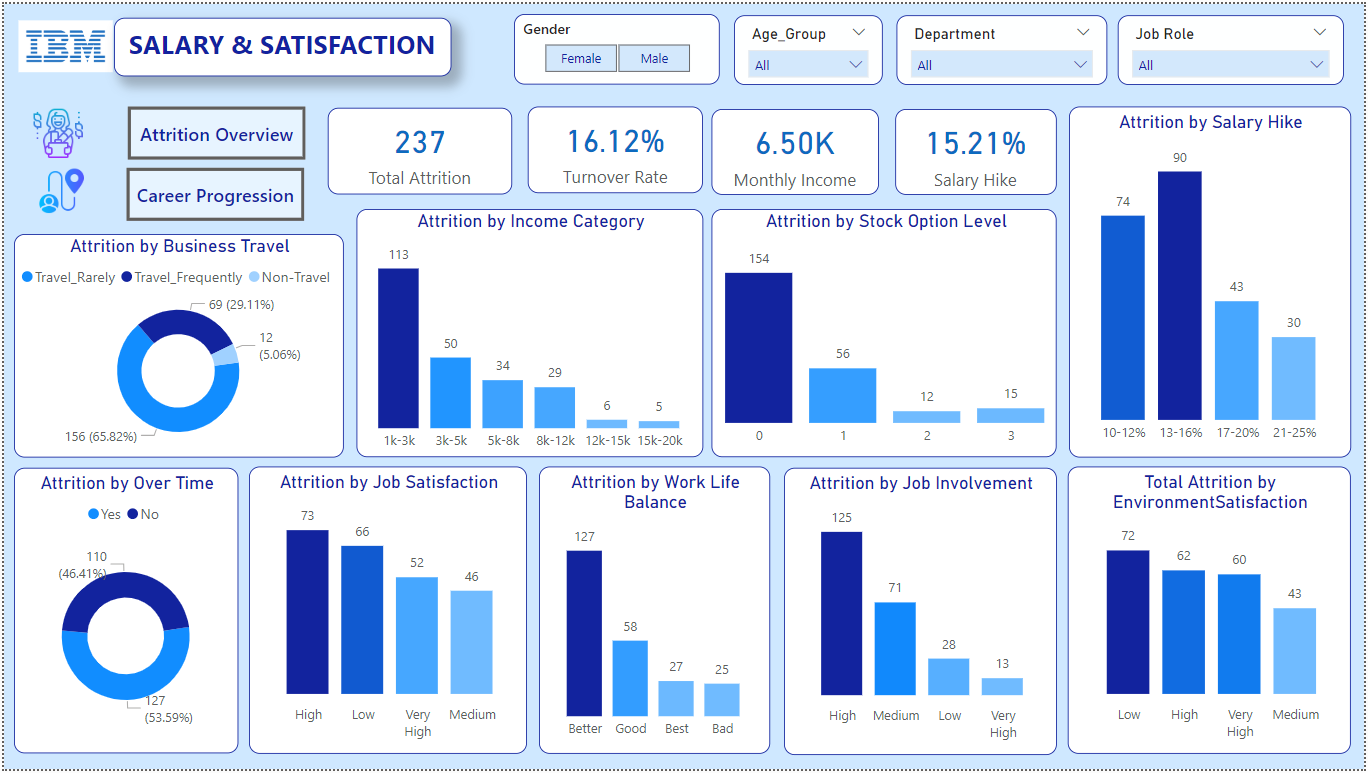

Layout of this report page (visuals, bound fields, positions):
{"tool":"powerbi","page":{"name":"Salary & Satisfaction","canvas":[1280,720],"ordinal":1},"visuals":[{"type":"clusteredColumnChart","title":"Attrition by Job Satisfaction","fields":{"Category":["ratings.JobSatisfaction"],"Y":["Measures (2).Total Attrition"]},"box":[231.1,435.3,261.7,270.2],"z":0},{"type":"clusteredColumnChart","fields":{"Category":["ratings.EnvironmentSatisfaction"],"Y":["Measures (2).Total Attrition"]},"box":[1001.5,435.3,266.6,270.2],"z":1000},{"type":"clusteredColumnChart","title":"Attrition by Work Life Balance","fields":{"Category":["ratings.WorkLifeBalance"],"Y":["Measures (2).Total Attrition"]},"box":[503.8,435.3,217.7,270.2],"z":2000},{"type":"clusteredColumnChart","title":"Attrition by Job Involvement","fields":{"Category":["job.JobInvolvement"],"Y":["Measures (2).Total Attrition"]},"box":[733.7,436.6,256.8,270.2],"z":3000},{"type":"clusteredColumnChart","title":"Attrition by Stock Option Level","fields":{"Category":["compensation.StockOptionLevel"],"Y":["Measures (2).Total Attrition"]},"box":[666.3,193,324.4,233.7],"z":4000},{"type":"clusteredColumnChart","title":"Attrition by Salary Hike","fields":{"Category":["employee_fact.Salary_hike_percentage"],"Y":["Measures (2).Total Attrition"]},"box":[1002.7,96.6,265.4,330.2],"z":5000},{"type":"clusteredColumnChart","title":"Attrition by Income Category","fields":{"Category":["employee_fact.income_slab"],"Y":["Measures (2).Total Attrition"]},"box":[331.4,193,326.7,233.7],"z":6000},{"type":"donutChart","title":"Attrition by Over Time","fields":{"Y":["Measures (2).Total Attrition"],"Category":["work.OverTime"]},"box":[9.8,436.6,211.6,269],"z":7000},{"type":"image","box":[0,10,115.7,58.6],"z":8000},{"type":"donutChart","title":"Attrition by Business Travel","fields":{"Y":["Measures (2).Total Attrition"],"Category":["employee_fact.BusinessTravel"]},"box":[9.3,216.3,310.5,210.5],"z":9000},{"type":"slicer","fields":{"Values":["work.Department"]},"box":[840,10,198.6,65.7],"z":10000},{"type":"slicer","fields":{"Values":["job.JobRole"]},"box":[1048.6,10,212.9,65.7],"z":11000},{"type":"slicer","fields":{"Values":["employee.Age_Group"]},"box":[687.1,10,140,65.7],"z":12000},{"type":"textbox","box":[103.9,13.5,317.9,55],"z":13000},{"type":"slicer","title":"Gender","fields":{"Values":["employee.Gender"]},"box":[480.6,9.8,193.2,66],"z":14000},{"type":"card","fields":{"Values":["Measures (2).Turnover Rate"]},"box":[492.8,96.6,165,81.9],"z":15000},{"type":"card","fields":{"Values":["Measures (2).Total Attrition"]},"box":[304.5,97.8,173.6,81.9],"z":16000},{"type":"card","fields":{"Values":["Measures (2).Monthly Income"]},"box":[666.4,99,157.7,80.7],"z":17000},{"type":"card","fields":{"Values":["Measures (2).Salary Hike"]},"box":[838.9,99,151.6,80.7],"z":18000},{"type":"image","box":[4.7,146.5,98.8,58.1],"z":19001},{"type":"actionButton","box":[115.1,154.7,167.4,50],"z":19002},{"type":"actionButton","box":[116.3,96.5,167.4,50],"z":19003},{"type":"image","box":[9.3,93,83.7,58.1],"z":19004}]}

Visuals, with their boxes in screenshot pixels (x1, y1, x2, y2), scaled from the page's 1280x720 canvas onto the 1368x773 screenshot:
"Attrition by Job Satisfaction" clusteredColumnChart: bbox=(247, 467, 527, 757)
clusteredColumnChart - ratings.EnvironmentSatisfaction x Measures (2).Total Attrition: bbox=(1070, 467, 1355, 757)
"Attrition by Work Life Balance" clusteredColumnChart: bbox=(538, 467, 771, 757)
"Attrition by Job Involvement" clusteredColumnChart: bbox=(784, 469, 1059, 759)
"Attrition by Stock Option Level" clusteredColumnChart: bbox=(712, 207, 1059, 458)
"Attrition by Salary Hike" clusteredColumnChart: bbox=(1072, 104, 1355, 458)
"Attrition by Income Category" clusteredColumnChart: bbox=(354, 207, 703, 458)
"Attrition by Over Time" donutChart: bbox=(10, 469, 237, 758)
image: bbox=(0, 11, 124, 74)
"Attrition by Business Travel" donutChart: bbox=(10, 232, 342, 458)
slicer - work.Department: bbox=(898, 11, 1110, 81)
slicer - job.JobRole: bbox=(1121, 11, 1348, 81)
slicer - employee.Age_Group: bbox=(734, 11, 884, 81)
textbox: bbox=(111, 14, 451, 74)
"Gender" slicer: bbox=(514, 11, 720, 81)
card - Measures (2).Turnover Rate: bbox=(527, 104, 703, 192)
card - Measures (2).Total Attrition: bbox=(325, 105, 511, 193)
card - Measures (2).Monthly Income: bbox=(712, 106, 881, 193)
card - Measures (2).Salary Hike: bbox=(897, 106, 1059, 193)
image: bbox=(5, 157, 111, 220)
actionButton: bbox=(123, 166, 302, 220)
actionButton: bbox=(124, 104, 303, 157)
image: bbox=(10, 100, 99, 162)
